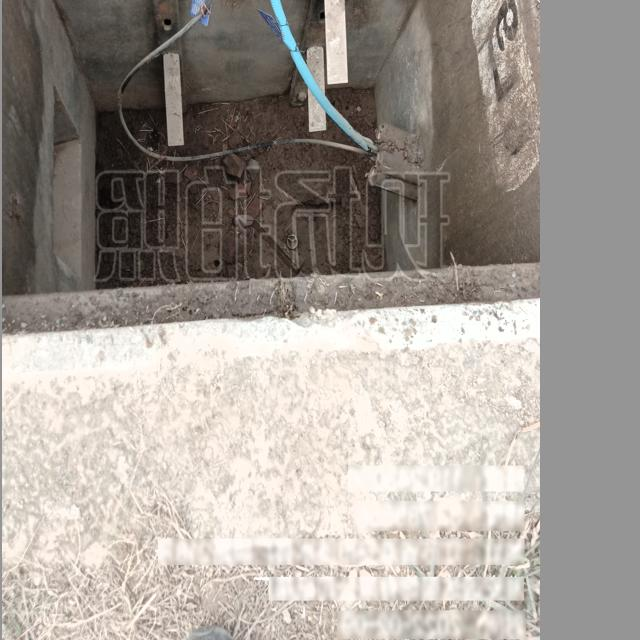lose: (1, 0, 538, 335)
